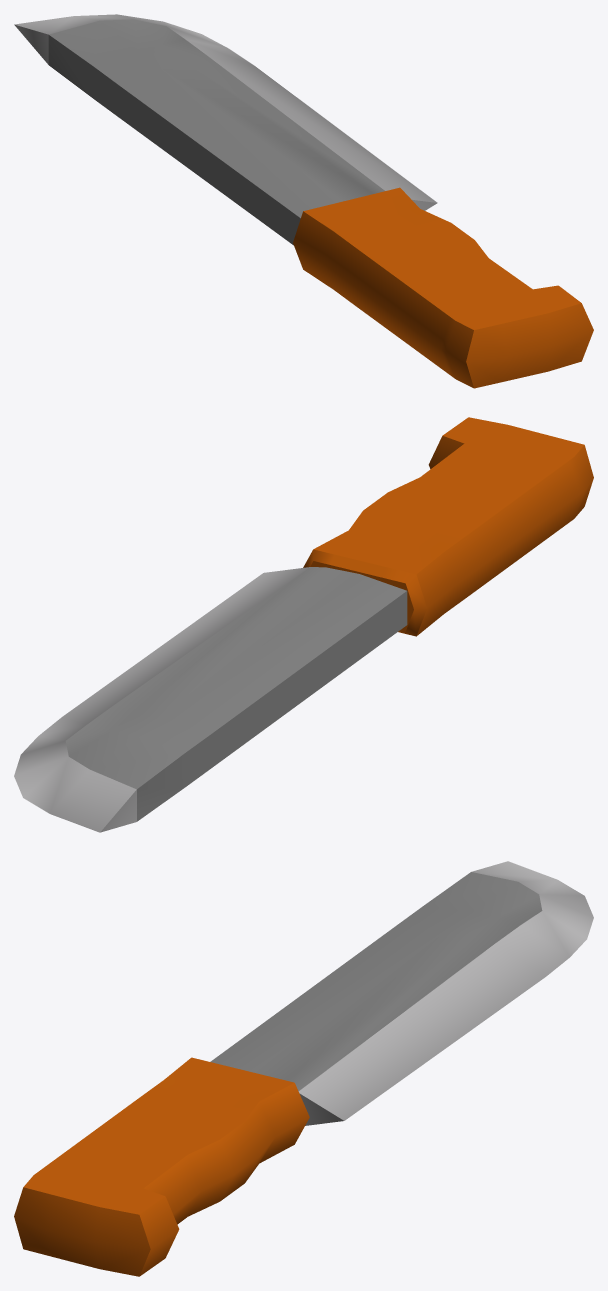
Rendered from Knife_01.fbx.
The picture shows the model from 3 angles, top to bottom: view 1: azimuth 30°, elevation 25°; view 2: azimuth 150°, elevation 25°; view 3: azimuth 330°, elevation 25°; orthographic projection. The views are drawn at different scales.
Visible parts, largest first — view 1: Knife_01; view 2: Knife_01; view 3: Knife_01.
Boxes of the visible parts, x1,y1,x2,y2 form: Knife_01: [14, 14, 593, 388]; Knife_01: [14, 417, 593, 832]; Knife_01: [14, 861, 593, 1276].
Size of the model in its own units: 14.1 by 5.15 by 74.16.
